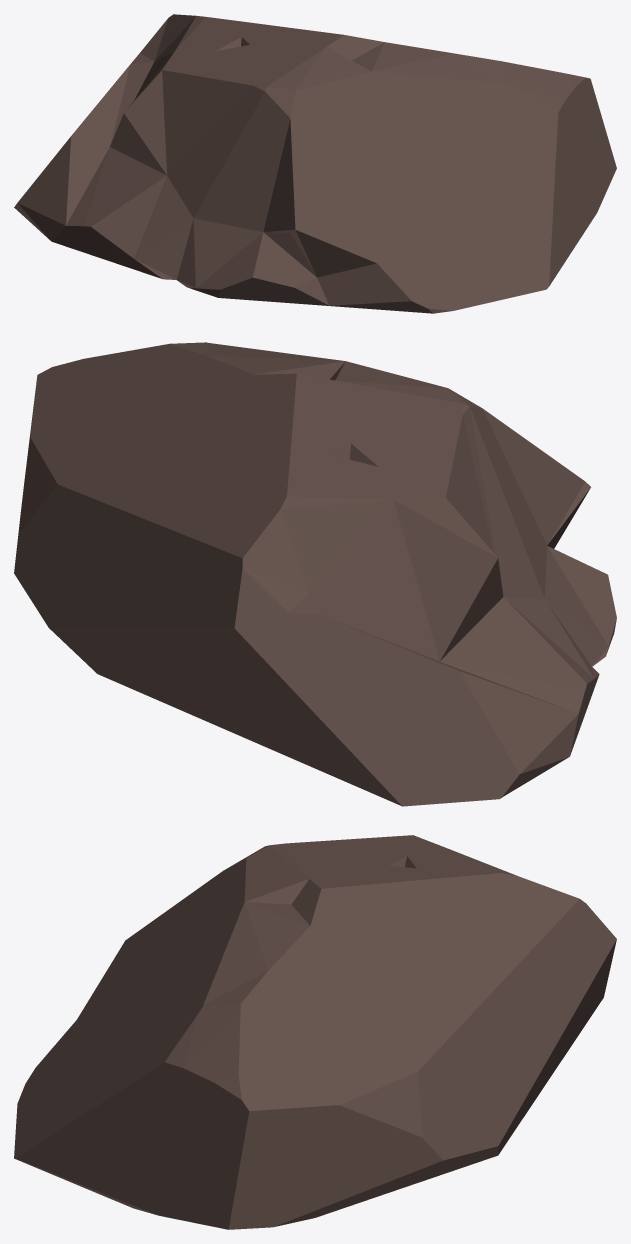
The model's file is Cliff shard 6.fbx.
The picture shows the model from 3 angles, top to bottom: view 1: azimuth 30°, elevation 25°; view 2: azimuth 150°, elevation 25°; view 3: azimuth 270°, elevation 25°; orthographic projection. The views are drawn at different scales.
Parts seen in each view (by area): view 1: Cliff shard 6; view 2: Cliff shard 6; view 3: Cliff shard 6.
Part boxes in pixels (left/top/right/bottom): Cliff shard 6: left=14, top=14, right=616, bottom=313; Cliff shard 6: left=14, top=342, right=616, bottom=806; Cliff shard 6: left=14, top=835, right=616, bottom=1229.
Size of the model in its own units: 1.35 by 0.4893 by 1.2.
